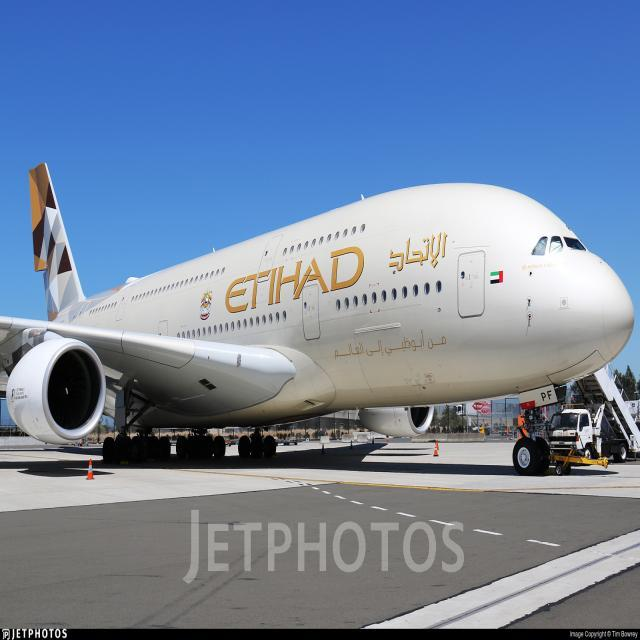Etihad Airways: (224, 230, 447, 314)
